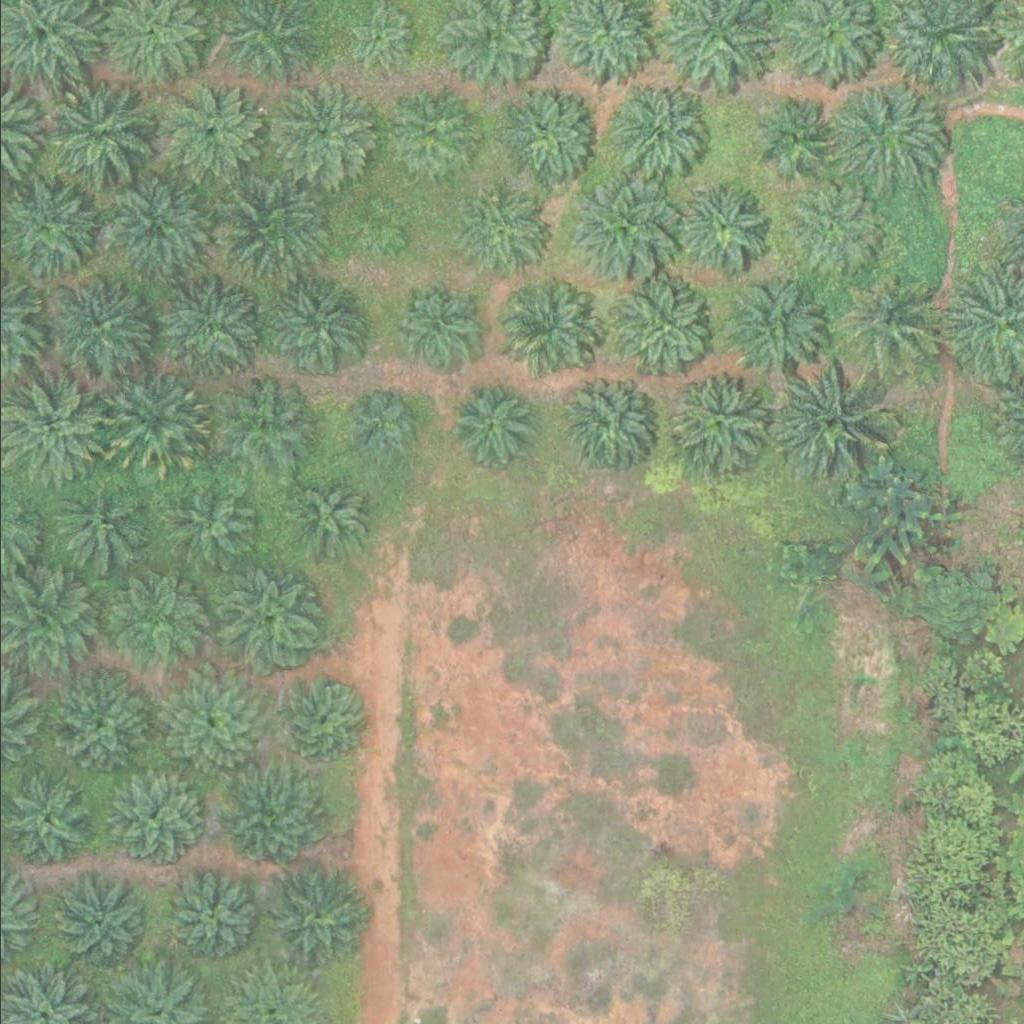Kelapa_Sawit: (826, 78, 940, 191), (605, 270, 719, 383), (566, 168, 680, 281), (152, 668, 266, 781), (40, 672, 154, 785), (97, 366, 210, 479), (256, 269, 369, 382), (770, 368, 883, 480), (712, 273, 825, 385), (148, 270, 261, 382), (219, 171, 332, 283), (97, 169, 210, 281), (43, 77, 156, 189), (256, 863, 369, 975), (834, 278, 935, 378), (668, 372, 769, 472), (212, 374, 313, 474), (449, 185, 550, 285), (500, 83, 601, 183), (381, 87, 482, 187), (273, 79, 374, 179), (162, 79, 263, 179), (47, 275, 148, 375), (213, 771, 314, 871), (154, 872, 255, 972), (48, 874, 149, 974), (605, 76, 705, 176), (782, 178, 882, 278), (670, 175, 770, 275), (555, 374, 655, 474), (495, 275, 595, 375), (214, 567, 314, 667), (104, 580, 204, 680), (105, 771, 205, 871), (443, 379, 531, 467), (281, 474, 369, 562), (51, 485, 139, 573), (161, 490, 249, 577), (391, 281, 479, 368), (278, 675, 366, 762), (760, 99, 836, 174), (348, 392, 411, 455), (345, 194, 408, 256)
